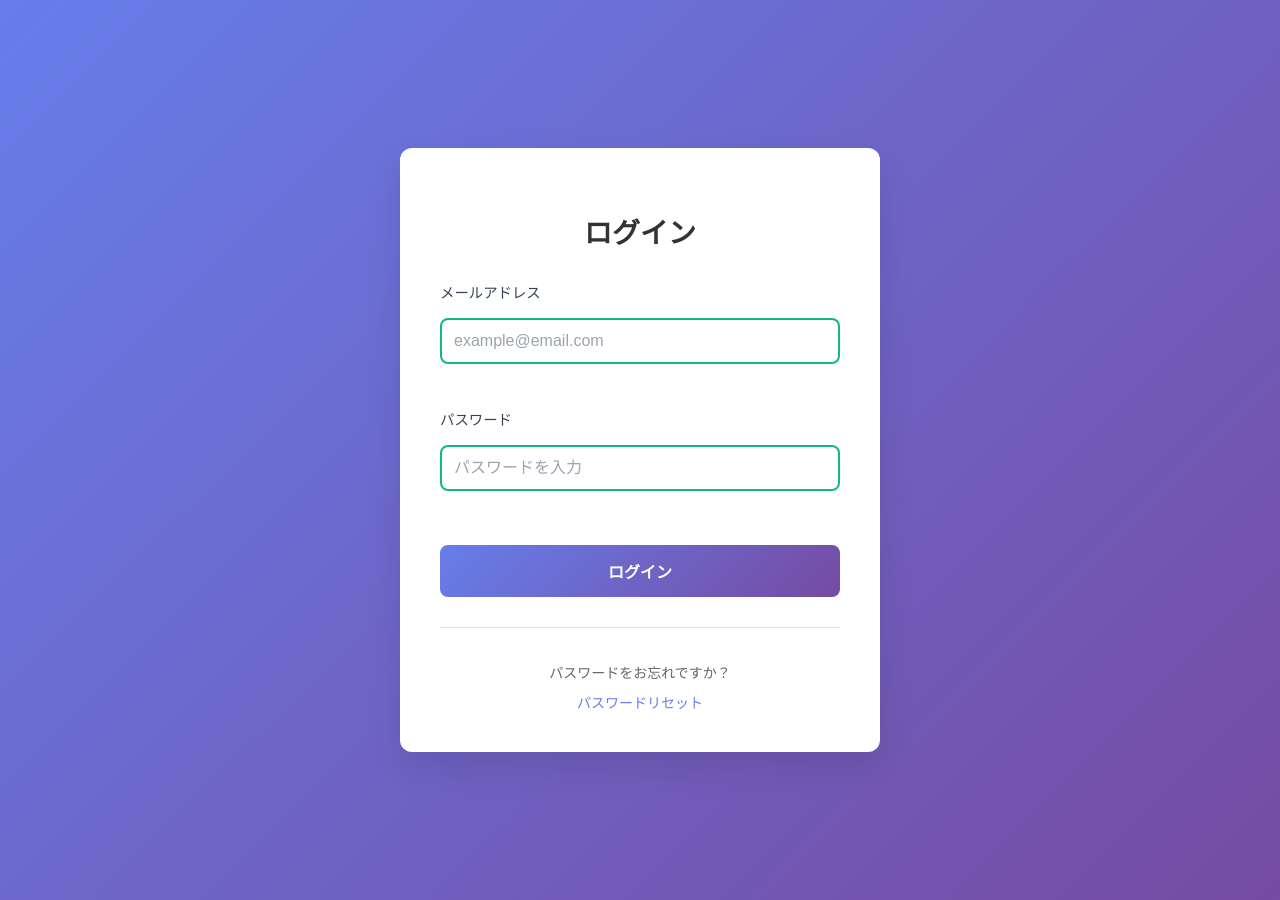
Test: Login Component › displays validation error for short password
This screenshot has width=1280, height=900.
Type "123" into the password field labelled "パスワード".
click(640, 468); type("123")  # box left=440, top=445, right=840, bottom=491
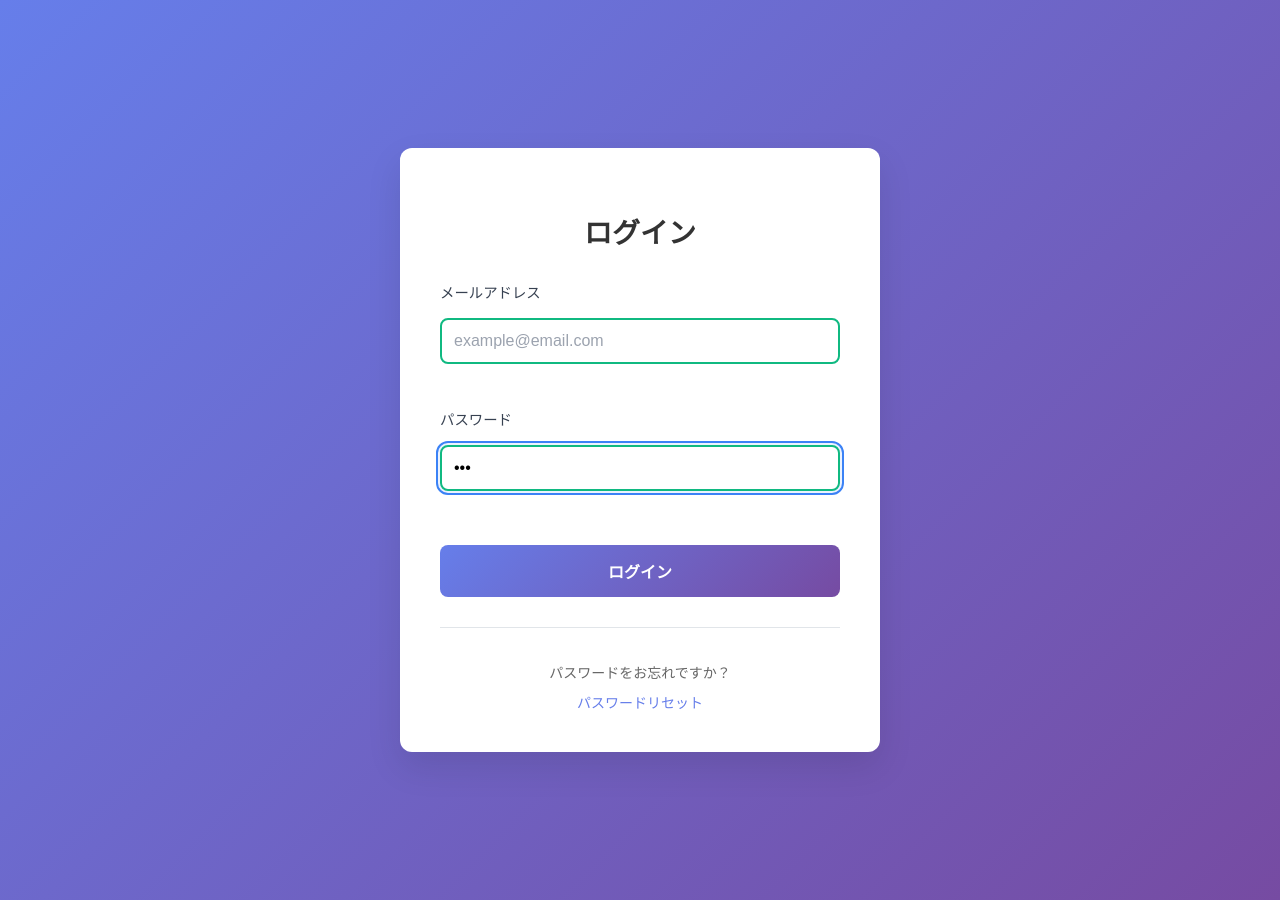
Click the button "ログイン".
click(640, 571)  # box left=440, top=545, right=840, bottom=597
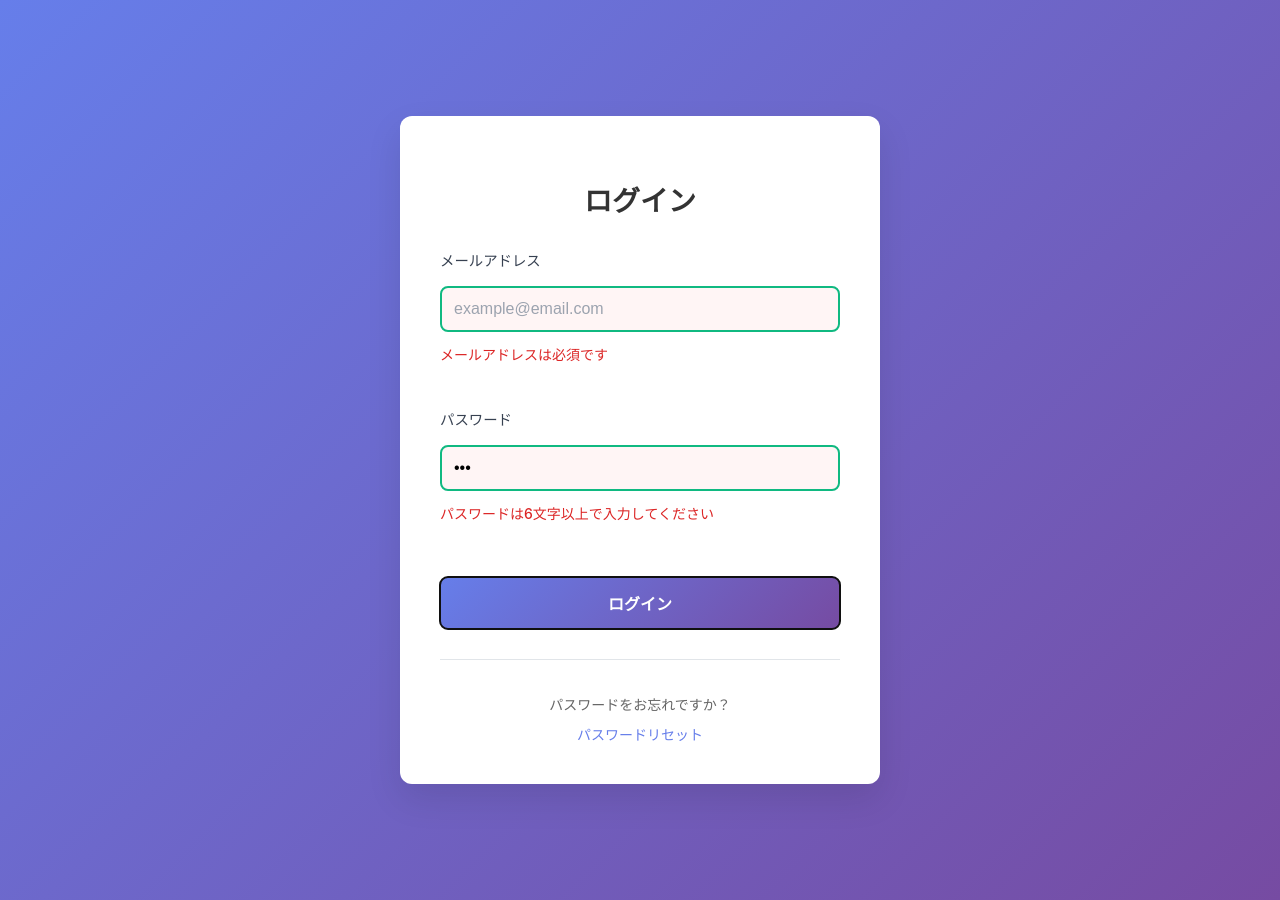
Expected: the text "パスワードは6文字以上で入力してください" is shown, left=440, top=505, right=714, bottom=522
